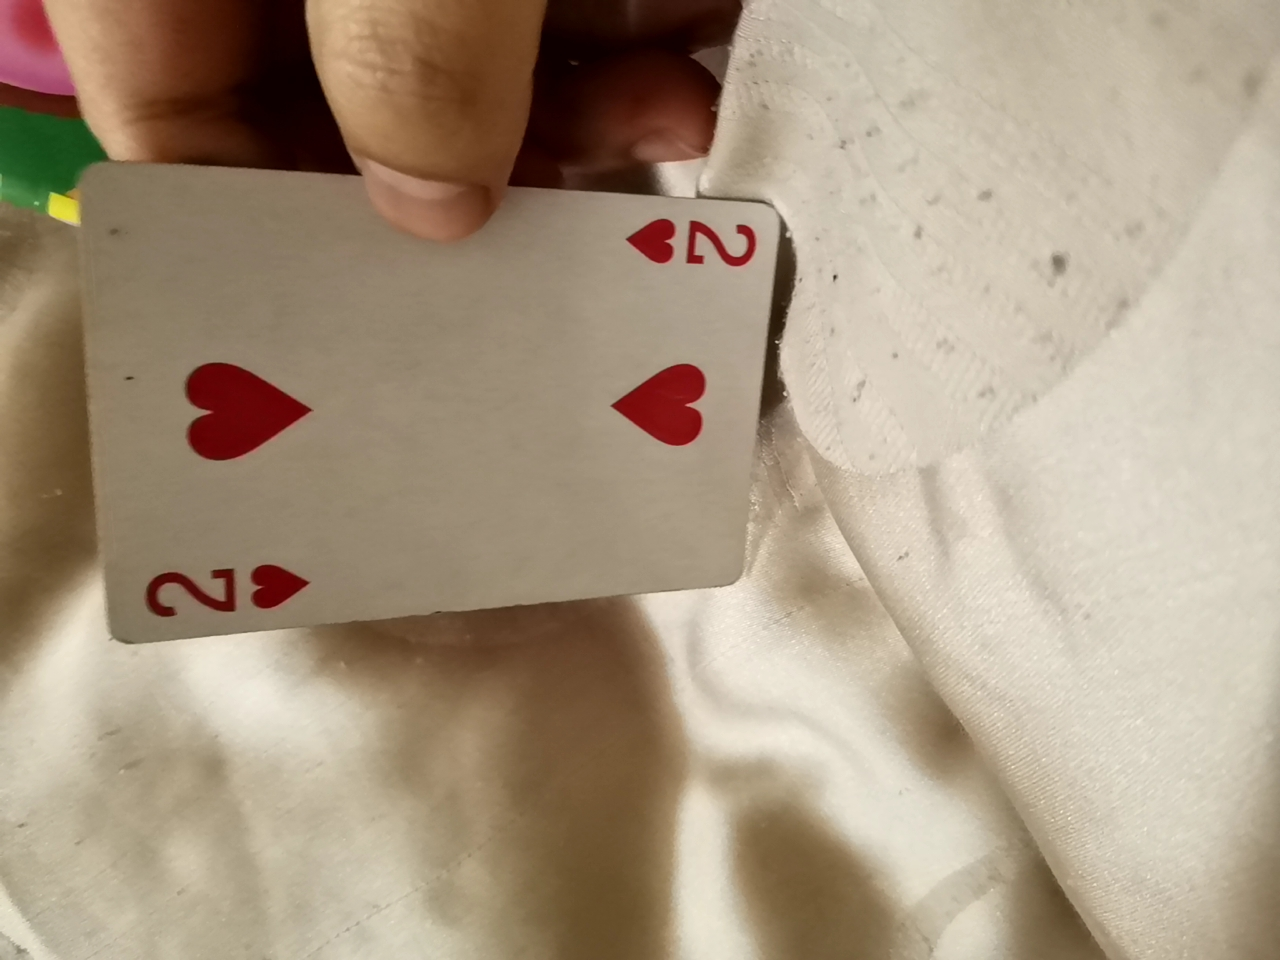hx 2: (50, 147, 819, 632)
